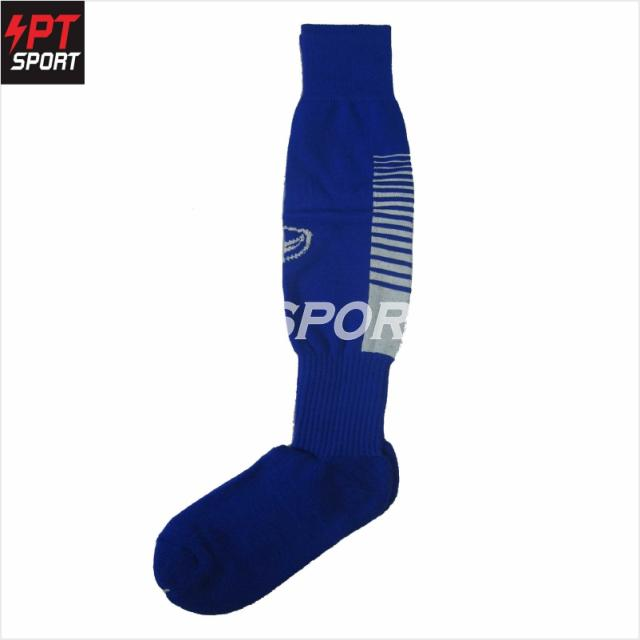sock: (153, 22, 414, 616)
